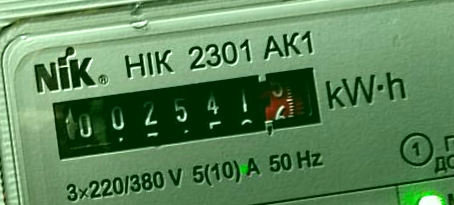0: (106, 99, 129, 134), (76, 109, 96, 140)
1: (233, 80, 252, 115)
2: (136, 94, 162, 130)
4: (202, 85, 223, 118)
5: (170, 92, 190, 126)
6: (270, 100, 289, 123)
screen: (36, 50, 344, 176)
